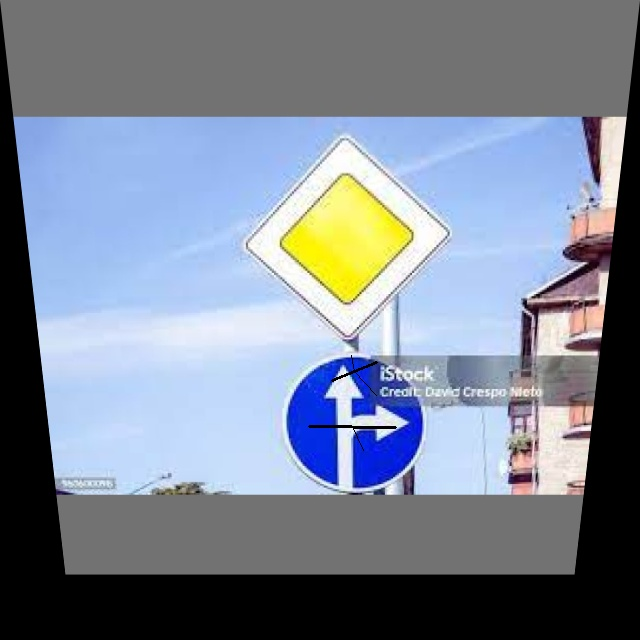Compulsory_Ahead_or_Turn_Right: (284, 354, 422, 487)
